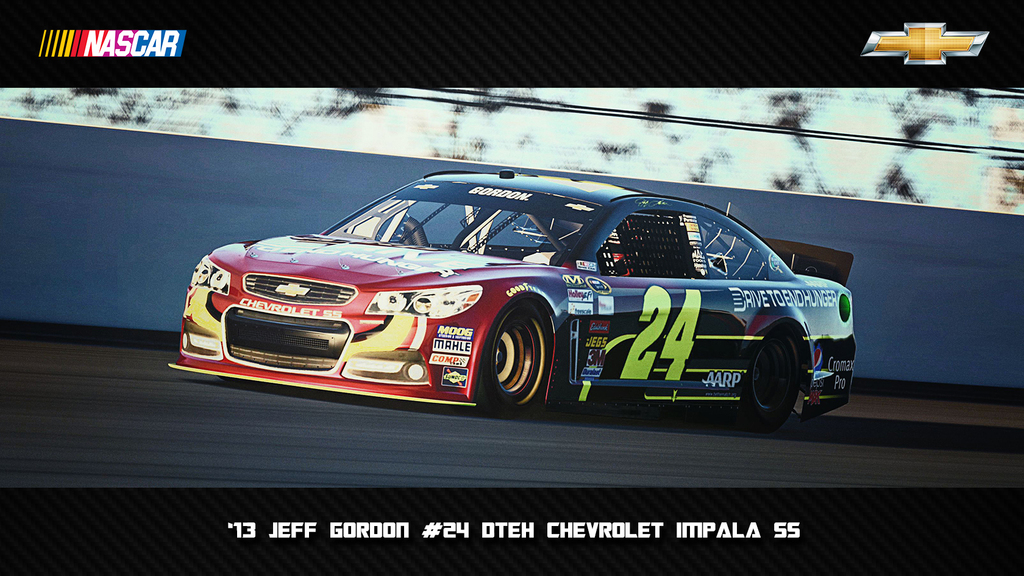Car: (168, 164, 863, 417)
